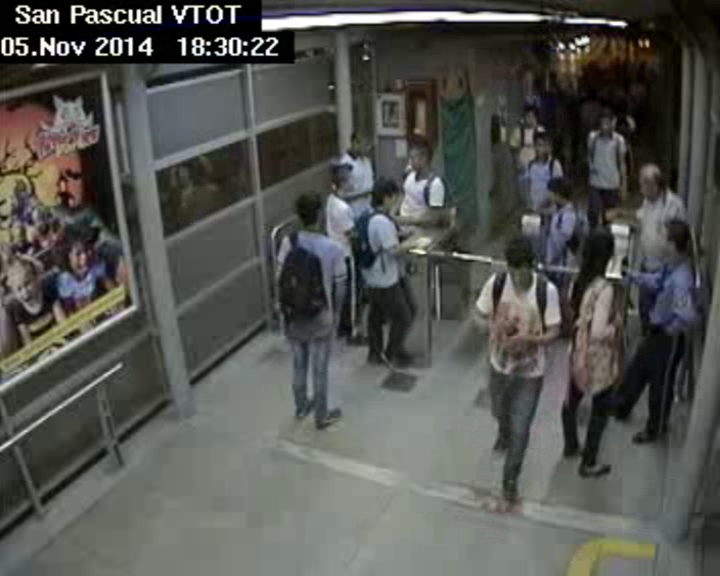person: (581, 216, 628, 276), (498, 234, 538, 289), (287, 191, 331, 237), (372, 174, 410, 220), (655, 214, 693, 259), (632, 159, 666, 203), (322, 160, 359, 194), (546, 171, 575, 208), (405, 140, 436, 174), (345, 125, 372, 156), (532, 132, 556, 163), (594, 107, 617, 137), (517, 103, 538, 128)
